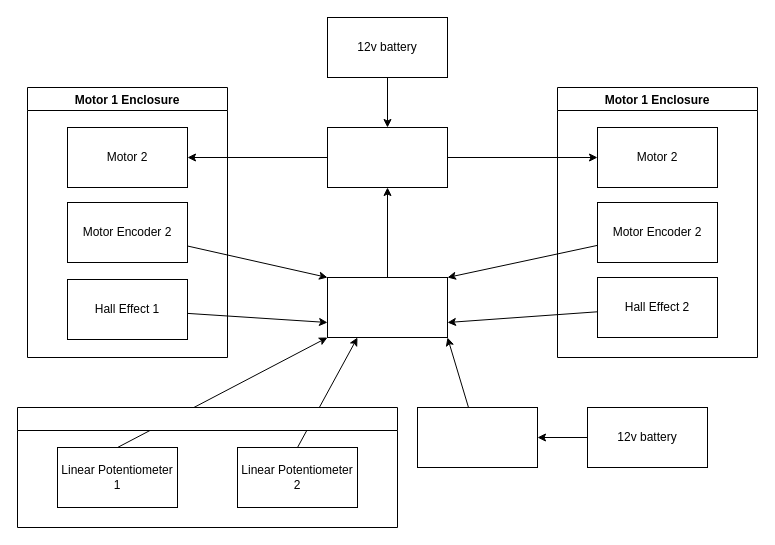
The diagram is 775 pixels wide and 545 high, and some of its shapes have lost their labels. Here are the shapes that lost their labels. From the top down, the box of each, then its label:
(326, 126, 448, 188): Motor Controller
(326, 276, 448, 338): Microcontroller
(416, 406, 538, 468): DC-DC Converter
(16, 406, 398, 528): Sensors mounted to shocks
